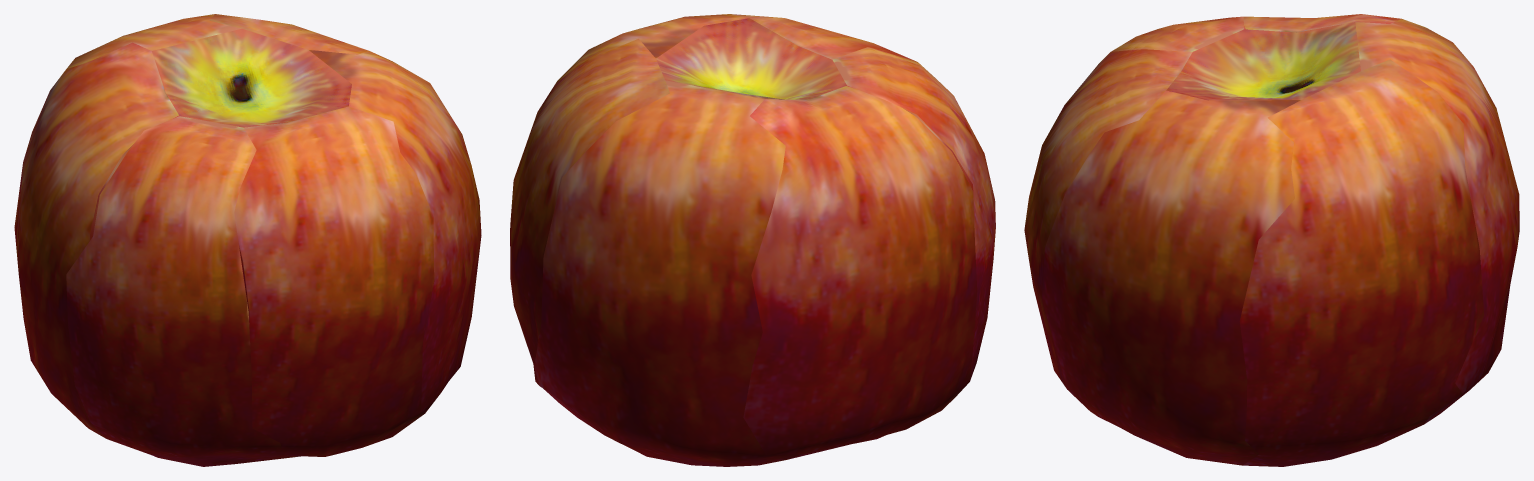
The model's file is apple.dae.
3 views of the same model, side by side, from view 1: azimuth 30°, elevation 25°; view 2: azimuth 150°, elevation 25°; view 3: azimuth 270°, elevation 25° (orthographic). The views are drawn at different scales.
Visible parts, largest first — view 1: apple; view 2: apple; view 3: apple.
Part boxes in pixels (bbox=[...]): apple: bbox=[14, 14, 481, 466]; apple: bbox=[510, 14, 995, 466]; apple: bbox=[1024, 14, 1519, 466].
Bounding box in the file's own units: 0.0883 × 0.0905 × 0.0737.
Materials: 1 (1 with a texture image).
